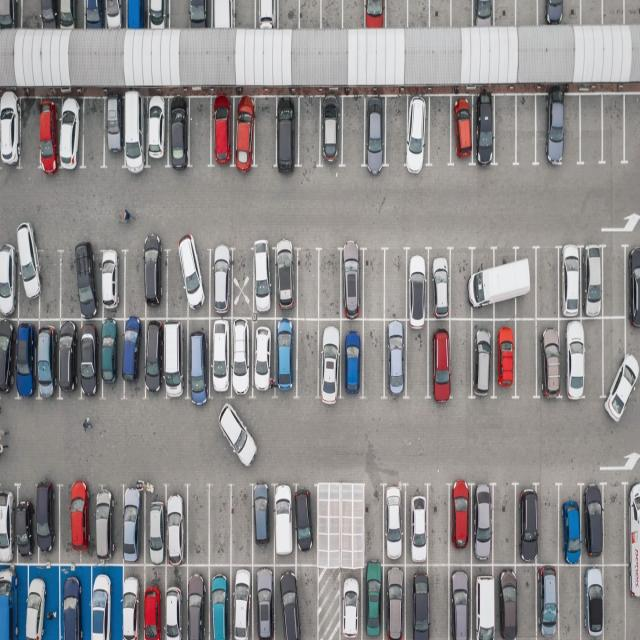space-empty: (603, 321, 629, 406), (447, 319, 473, 398), (512, 320, 538, 398), (535, 249, 563, 321), (405, 321, 431, 398), (423, 564, 450, 638), (293, 319, 319, 395), (579, 318, 602, 403), (557, 563, 583, 638), (361, 318, 386, 396), (492, 487, 517, 565), (425, 96, 452, 168), (600, 246, 626, 320), (254, 94, 280, 168), (292, 564, 318, 638), (426, 486, 450, 566), (537, 485, 561, 564), (208, 487, 232, 566), (448, 250, 475, 320), (228, 245, 253, 320), (342, 95, 368, 167), (231, 488, 255, 566), (383, 96, 408, 170), (361, 488, 384, 568), (297, 97, 323, 167), (188, 98, 214, 168), (82, 98, 108, 168), (603, 484, 625, 566), (492, 93, 517, 165), (38, 243, 62, 318), (604, 563, 628, 638), (293, 251, 319, 320), (187, 487, 210, 564), (20, 99, 44, 172), (603, 95, 628, 165), (515, 566, 539, 638), (316, 252, 341, 321), (580, 93, 604, 164), (514, 94, 538, 165), (61, 247, 85, 318), (360, 252, 385, 320), (384, 251, 408, 320), (124, 250, 148, 317), (561, 93, 582, 165), (166, 246, 187, 316), (318, 490, 336, 567), (624, 94, 640, 164), (342, 0, 366, 30), (384, 0, 408, 29), (277, 0, 300, 30), (299, 0, 322, 30), (321, 0, 344, 30), (169, 0, 191, 30), (450, 0, 474, 27), (407, 1, 431, 28), (21, 0, 43, 29), (234, 0, 256, 29), (515, 0, 538, 27), (492, 0, 515, 26), (430, 0, 452, 27), (580, 1, 604, 24), (601, 1, 624, 24), (623, 0, 640, 23)
space-occupied: (16, 564, 52, 640), (90, 484, 120, 562), (538, 93, 570, 166), (85, 567, 117, 640), (560, 317, 588, 400), (64, 480, 92, 560), (58, 567, 88, 640), (182, 242, 211, 317), (537, 320, 564, 400), (471, 564, 500, 638), (71, 246, 100, 320), (186, 319, 212, 401), (251, 319, 278, 397), (226, 319, 252, 400), (383, 318, 409, 398), (446, 483, 472, 563), (162, 319, 188, 399), (426, 321, 452, 400), (405, 484, 431, 563), (316, 319, 342, 398), (404, 97, 432, 170), (491, 246, 519, 319), (471, 317, 497, 395), (380, 483, 405, 564), (558, 248, 586, 320), (471, 483, 496, 563), (226, 564, 253, 638), (208, 318, 232, 401), (448, 95, 476, 166), (208, 245, 235, 318), (205, 565, 232, 638), (404, 250, 432, 320), (272, 318, 297, 396), (492, 320, 517, 398), (448, 564, 474, 639), (31, 480, 56, 558), (471, 246, 498, 318), (122, 319, 147, 396), (560, 487, 585, 564), (253, 242, 279, 316), (15, 240, 39, 320), (143, 96, 169, 169), (340, 318, 364, 397), (513, 485, 537, 564), (536, 563, 561, 638), (363, 97, 389, 169), (160, 568, 186, 640), (122, 486, 146, 564), (12, 319, 36, 397), (511, 247, 537, 319), (140, 565, 165, 639), (183, 564, 208, 638), (272, 246, 298, 317), (340, 569, 366, 640), (338, 251, 365, 319), (100, 250, 127, 318), (123, 97, 148, 170), (164, 487, 188, 563), (578, 562, 602, 638), (57, 320, 81, 396), (426, 249, 452, 319), (317, 97, 343, 167), (232, 98, 258, 168), (142, 485, 165, 564), (209, 97, 234, 169), (121, 564, 145, 639), (167, 98, 192, 170), (59, 98, 84, 170), (274, 563, 298, 638), (34, 322, 58, 396), (254, 564, 278, 638), (406, 564, 430, 638), (274, 97, 299, 168), (578, 246, 603, 317), (473, 93, 497, 166), (273, 485, 296, 561), (100, 318, 123, 394), (292, 487, 315, 562), (381, 563, 404, 638), (38, 97, 61, 172), (81, 319, 103, 397), (580, 488, 602, 566), (251, 487, 273, 564), (494, 567, 517, 640), (144, 320, 165, 398), (104, 98, 127, 168), (360, 567, 382, 640), (144, 248, 167, 316), (1, 95, 22, 169), (0, 240, 20, 317), (14, 487, 34, 560), (1, 567, 20, 640), (0, 489, 17, 566), (625, 481, 640, 563), (625, 561, 640, 638), (0, 319, 14, 397), (626, 245, 640, 319), (540, 0, 580, 25), (255, 0, 281, 30), (58, 0, 82, 30), (84, 0, 108, 30), (125, 0, 149, 30), (361, 0, 386, 28), (188, 0, 212, 29), (146, 0, 170, 28), (210, 0, 233, 29), (103, 0, 125, 29), (473, 0, 497, 26), (0, 0, 20, 30), (39, 0, 58, 29)
